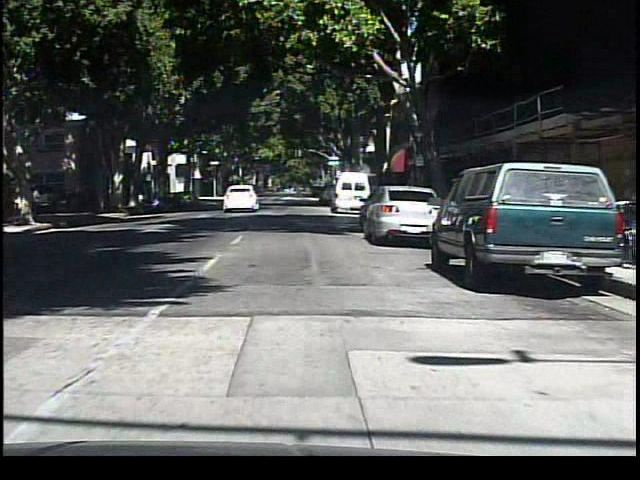person: (292, 176, 309, 206)
